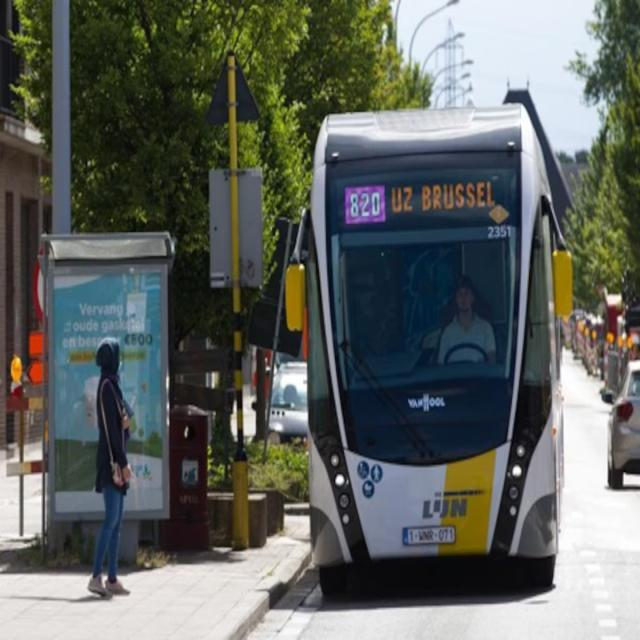bus-number: (347, 188, 382, 220)
